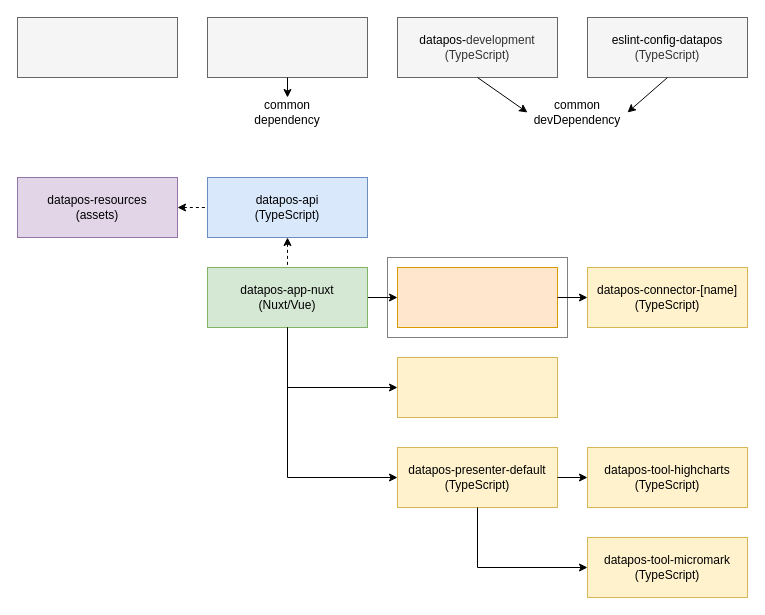
The diagram is 765 pixels wide and 615 high, and some of its shapes have lost their labels. Here are the shapes that lost their labels. From the top down, the box of each, then its label:
(16, 16, 178, 78): .github (assets)
(206, 16, 368, 78): datapos- shared (TypeScript)
(396, 266, 558, 328): datapos- engine (TypeScript / Rust)
(396, 356, 558, 418): datapos- context-default (TypeScript)
